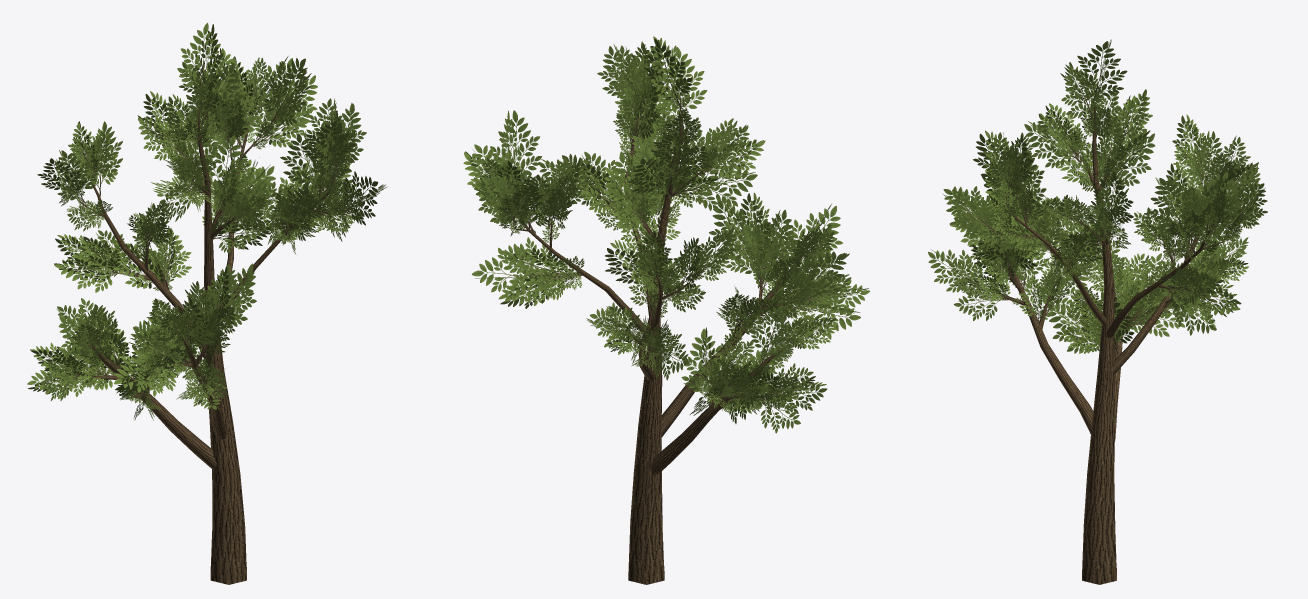
The model's file is Tree2.gltf.
3 views of the same model, side by side, from view 1: azimuth 30°, elevation 25°; view 2: azimuth 150°, elevation 25°; view 3: azimuth 270°, elevation 25° (orthographic). The views are drawn at different scales.
Parts seen in each view (by area): view 1: leaves.002, trunk.002; view 2: leaves.002, trunk.002; view 3: leaves.002, trunk.002.
Part boxes in pixels (bbox=[...]): leaves.002: bbox=[27, 23, 386, 420]; trunk.002: bbox=[80, 107, 343, 584]; leaves.002: bbox=[463, 36, 869, 433]; trunk.002: bbox=[513, 109, 802, 584]; leaves.002: bbox=[928, 39, 1267, 353]; trunk.002: bbox=[998, 104, 1232, 584].
Size of the model in its own units: 78.53 by 121 by 77.89.
Materials: 2 (2 with a texture image).
